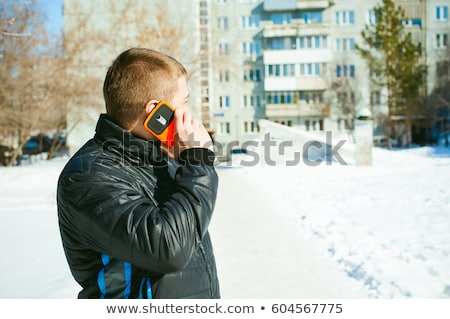phone: (149, 106, 192, 150)
talk: (147, 79, 216, 162)
